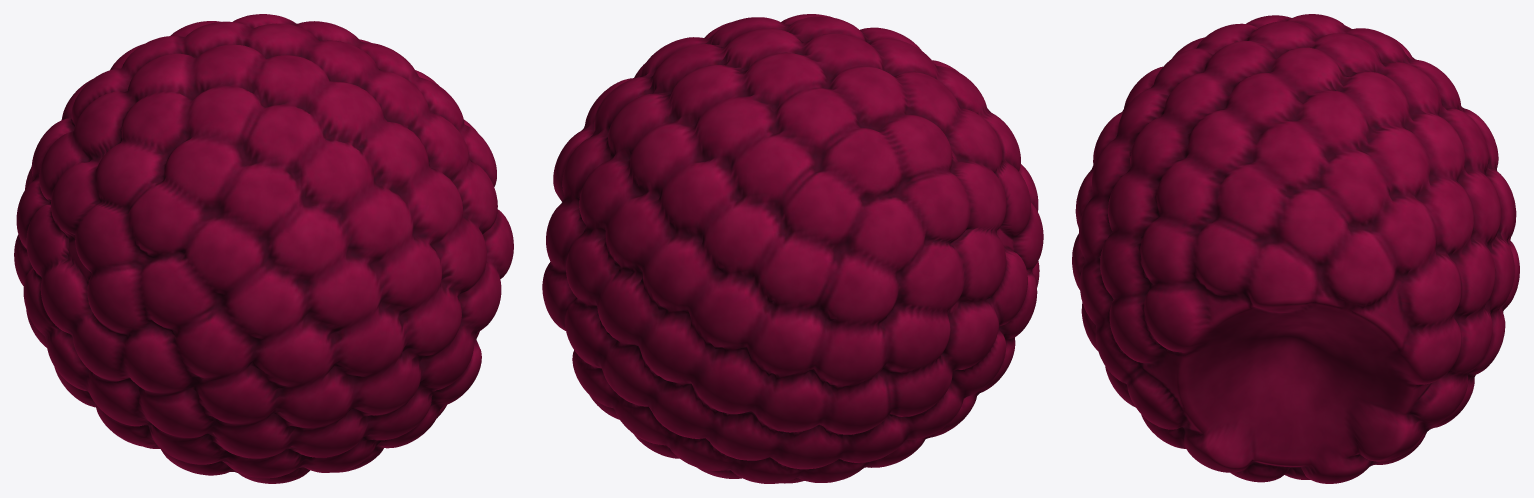
The model's file is raspberry.glb.
3 views of the same model, side by side, from view 1: azimuth 30°, elevation 25°; view 2: azimuth 150°, elevation 25°; view 3: azimuth 270°, elevation 25° (orthographic). The views are drawn at different scales.
Visible parts, largest first — view 1: raspberry; view 2: raspberry; view 3: raspberry.
Part boxes in pixels (box(x1,y1,x2,y2)): raspberry: box(14, 14, 513, 483); raspberry: box(542, 14, 1043, 483); raspberry: box(1072, 14, 1519, 483).
Bounding box in the file's own units: 2 × 1.89 × 1.87.
1 material, 1 textured.
